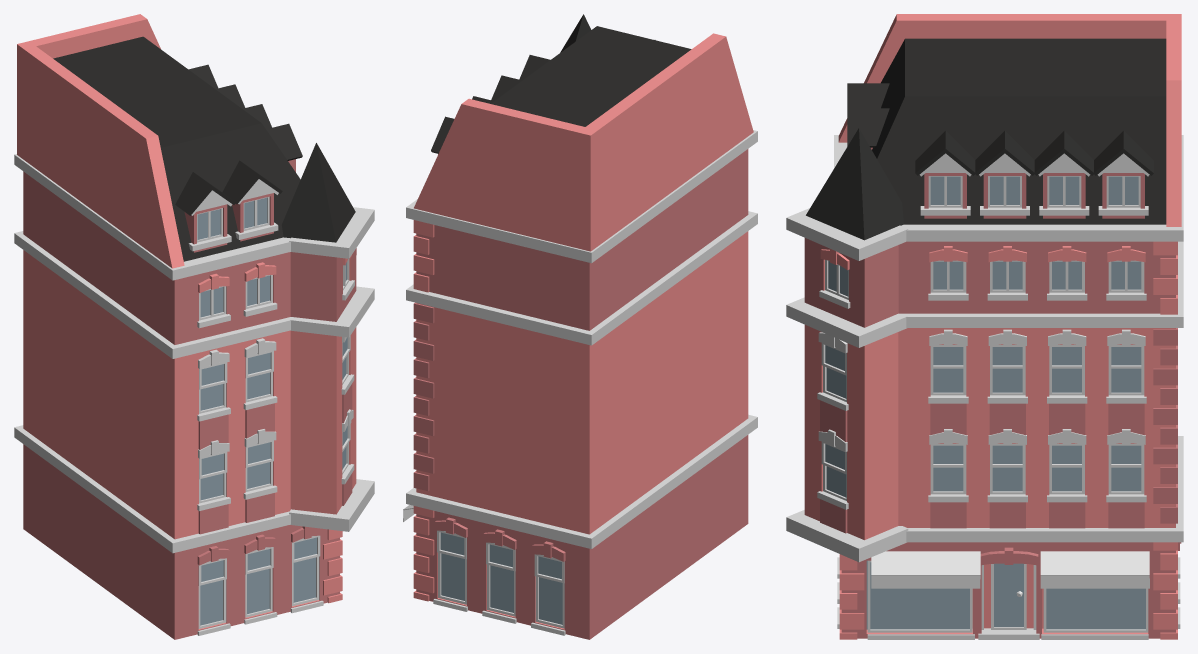
File: pink-house-corner.fbx
3 renders of one model, left to right at view 1: azimuth 30°, elevation 25°; view 2: azimuth 150°, elevation 25°; view 3: azimuth 270°, elevation 25°, orthographic. The views are drawn at different scales.
Visible parts, largest first — view 1: Cube.022, Cube.011, Cube.040, Cube.044, Cube.035, Cube.041, Cube, Cube.151, Cube.014, Cube.150, Cube.024, Cube.037; view 2: Cube.022, Cube.044, Cube.038, Cube.037, Cube.036, Cube.014; view 3: Cube.022, Cube.018, Cube.011, Cube.014, Cube.034, Plane.002, Cube.016, Cube.024, Cube.020, Cube.038, Cube.037, Cube (+5 smaller).
Boxes of the visible parts, x1,y1,x2,y2 form: Cube.022: (14, 14, 339, 639); Cube.011: (281, 143, 356, 514); Cube.040: (197, 338, 277, 534); Cube.044: (197, 526, 323, 635); Cube.035: (175, 160, 282, 252); Cube.041: (197, 262, 277, 328); Cube: (289, 479, 374, 531); Cube.151: (289, 207, 374, 258); Cube.014: (188, 64, 302, 171); Cube.150: (289, 286, 374, 337); Cube.024: (341, 336, 354, 505); Cube.037: (323, 529, 342, 603); Cube.022: (406, 26, 757, 639); Cube.044: (433, 517, 565, 635); Cube.038: (413, 302, 434, 491); Cube.037: (413, 506, 434, 601); Cube.036: (413, 220, 434, 292); Cube.014: (431, 55, 550, 154); Cube.022: (834, 14, 1183, 638); Cube.018: (928, 329, 1146, 528); Cube.011: (804, 128, 903, 540); Cube.014: (915, 130, 1153, 218); Cube.034: (866, 560, 1148, 639); Plane.002: (871, 551, 1149, 588); Cube.016: (928, 246, 1146, 300); Cube.024: (817, 332, 848, 533); Cube.020: (978, 547, 1039, 639); Cube.038: (1153, 328, 1177, 523); Cube.037: (839, 542, 1177, 639); Cube: (786, 510, 908, 562).
Bounding box in the file's own units: 788 × 1708 × 1153.
